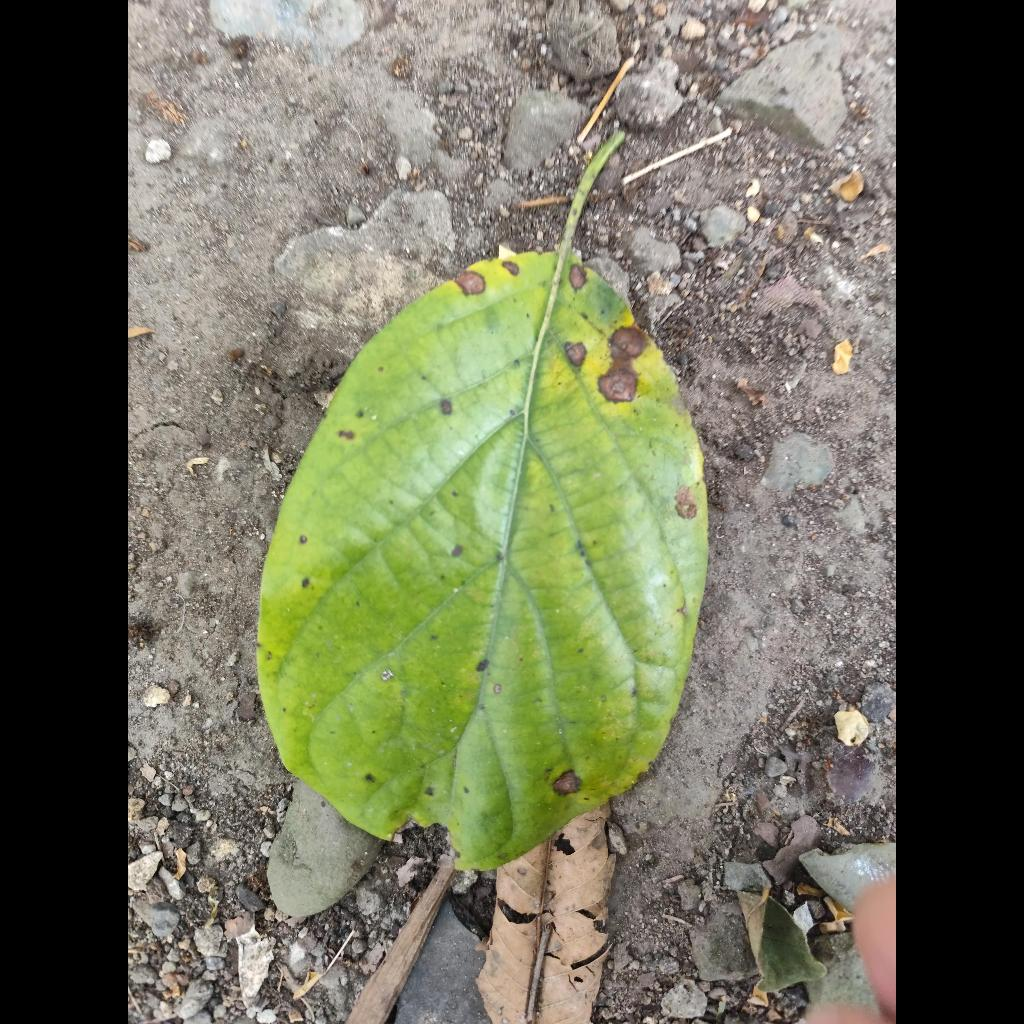deficiencia_nutricional: (257, 133, 707, 869)
